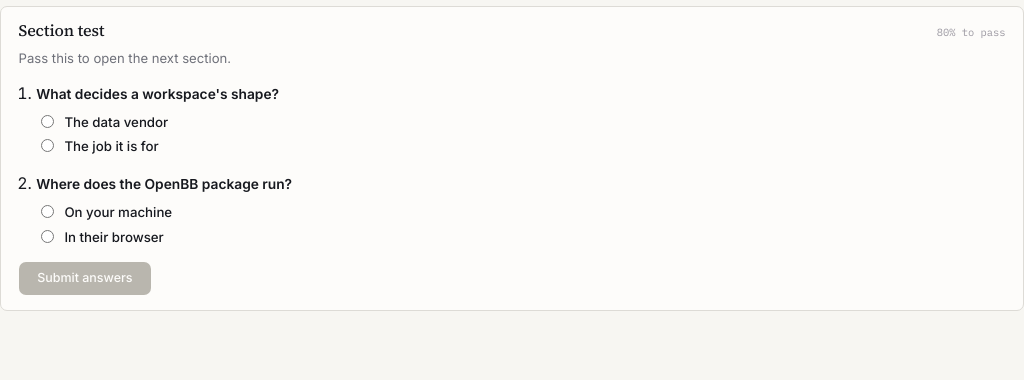
Scenario: SectionTestCard (GRS-0226) › offers a retake after a failure and clears the previous answers
The image size is (1024, 380).
Step 1. Click the radio button labelled "The data vendor" → (48, 121), box [41,115,54,128]
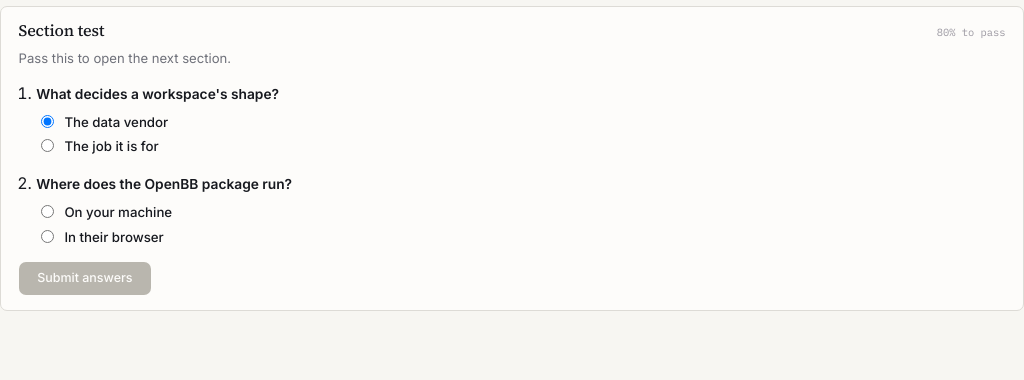
Step 2. Click the radio button labelled "On your machine" → (48, 212), box [41,205,54,218]
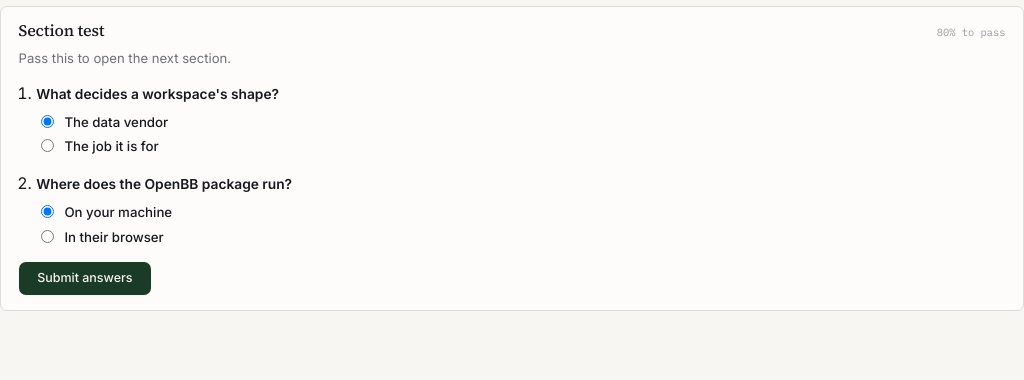
Step 3. Click the button "Submit answers" → (85, 278), box [19,262,151,295]
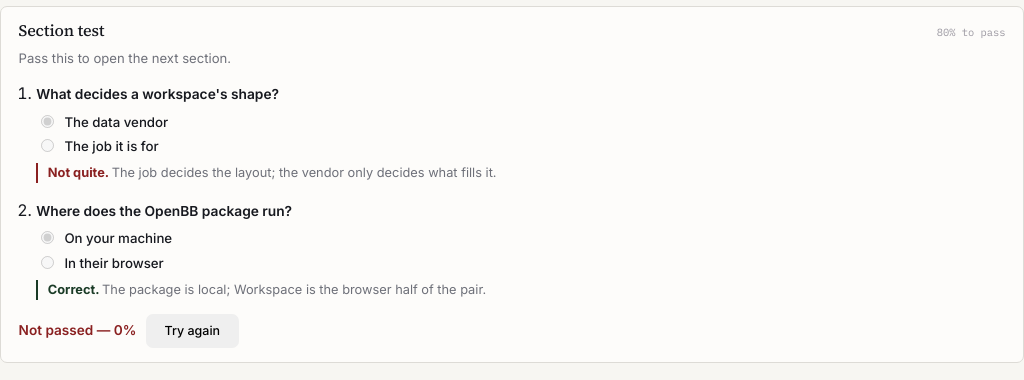
Step 4. Click the button "Try again" → (192, 331), box [146,314,239,348]
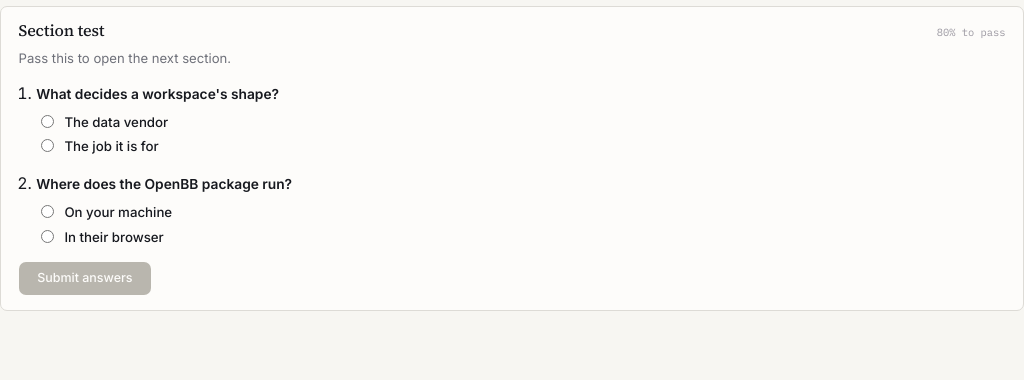
Expected: the text "The job decides the layout" is gone
Expected: the button "Submit answers" is disabled, [19,262,151,295]
